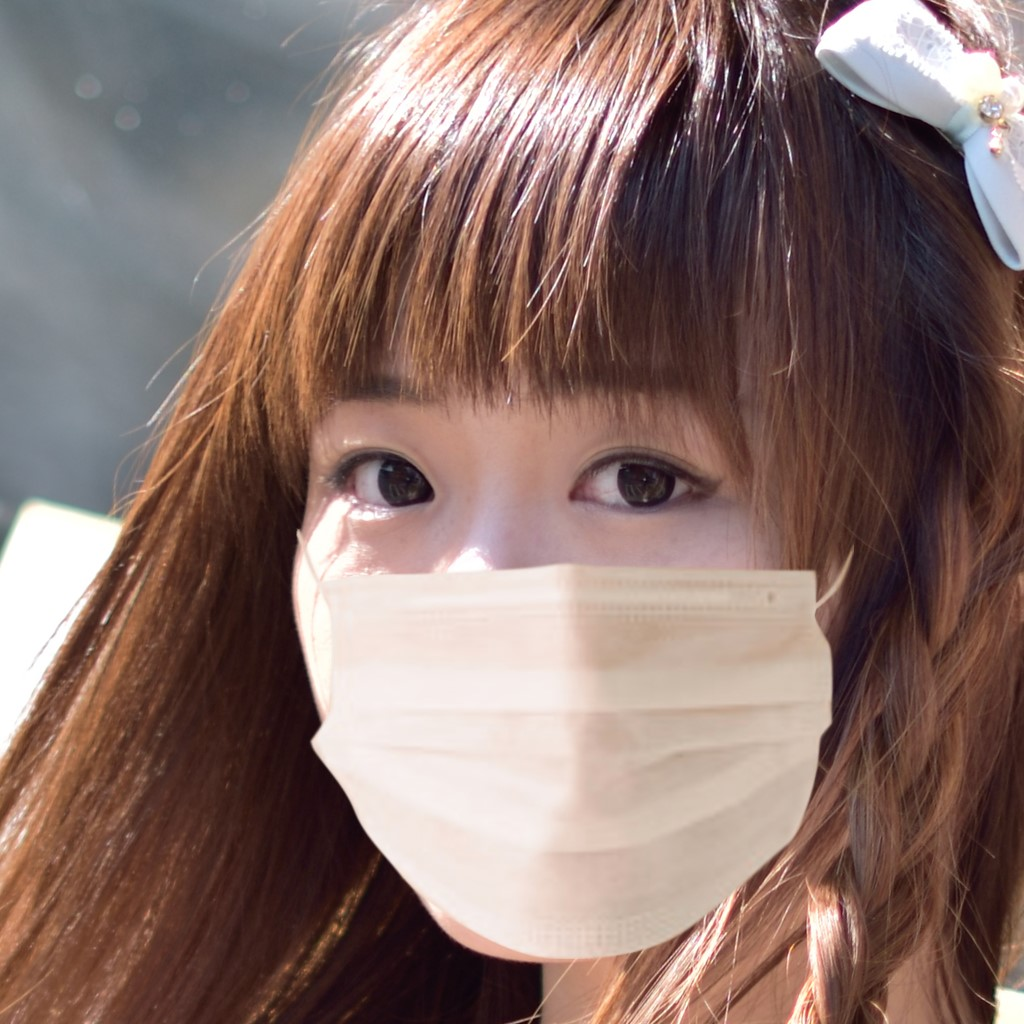con_mascara: (273, 228, 882, 977)
